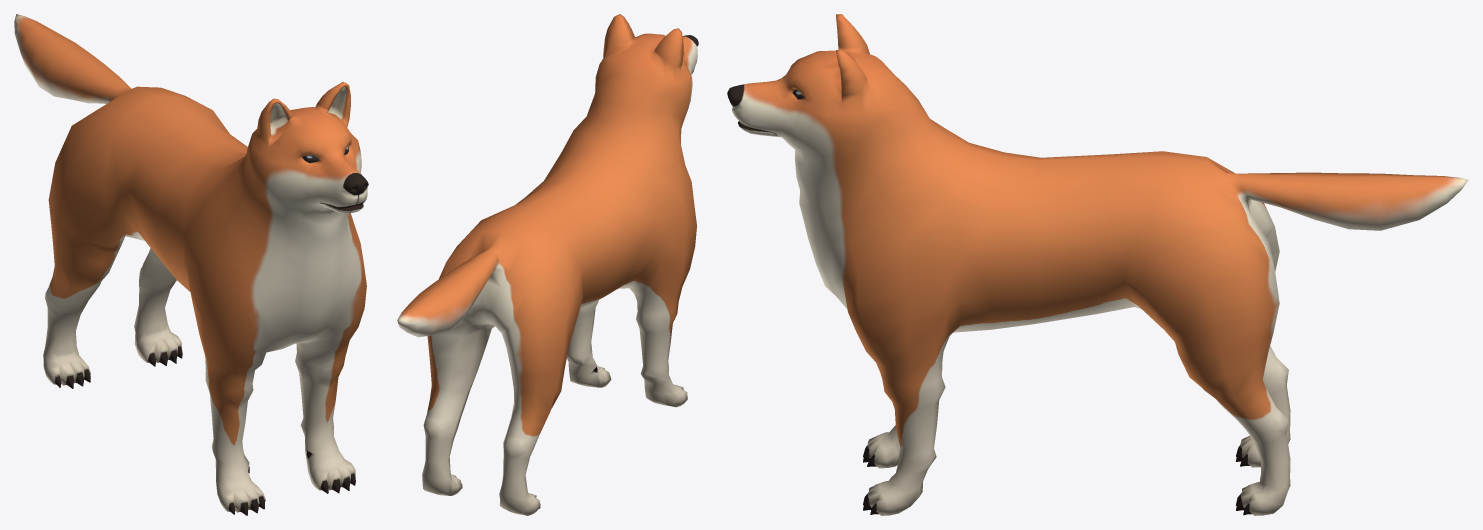
The model's file is Shiba.obj.
The picture shows the model from 3 angles, left to right: view 1: azimuth 30°, elevation 25°; view 2: azimuth 150°, elevation 25°; view 3: azimuth 270°, elevation 25°; orthographic projection. The views are drawn at different scales.
Visible parts, largest first — view 1: dog; view 2: dog; view 3: dog.
Boxes of the visible parts, x1,y1,x2,y2 form: dog: [14, 14, 368, 515]; dog: [397, 14, 698, 515]; dog: [727, 14, 1468, 515].
Size of the model in its own units: 0.2475 by 0.6518 by 0.9689.
Materials: 1 (1 with a texture image).
